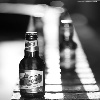beer: (21, 30, 46, 98)
